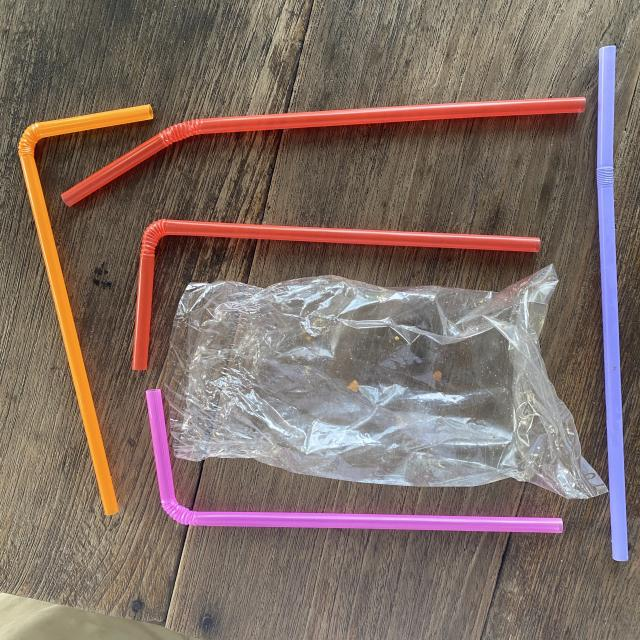Single-layer Plastic: (165, 265, 606, 499)
